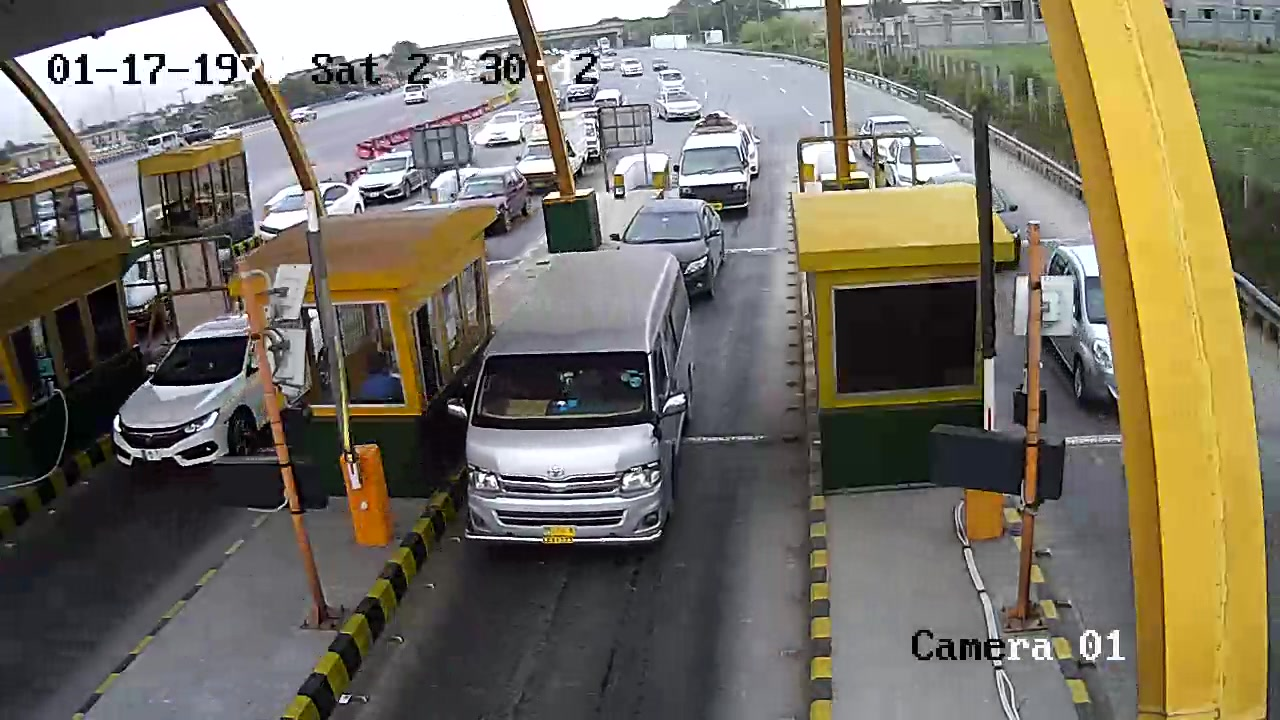F3: (449, 247, 695, 562)
